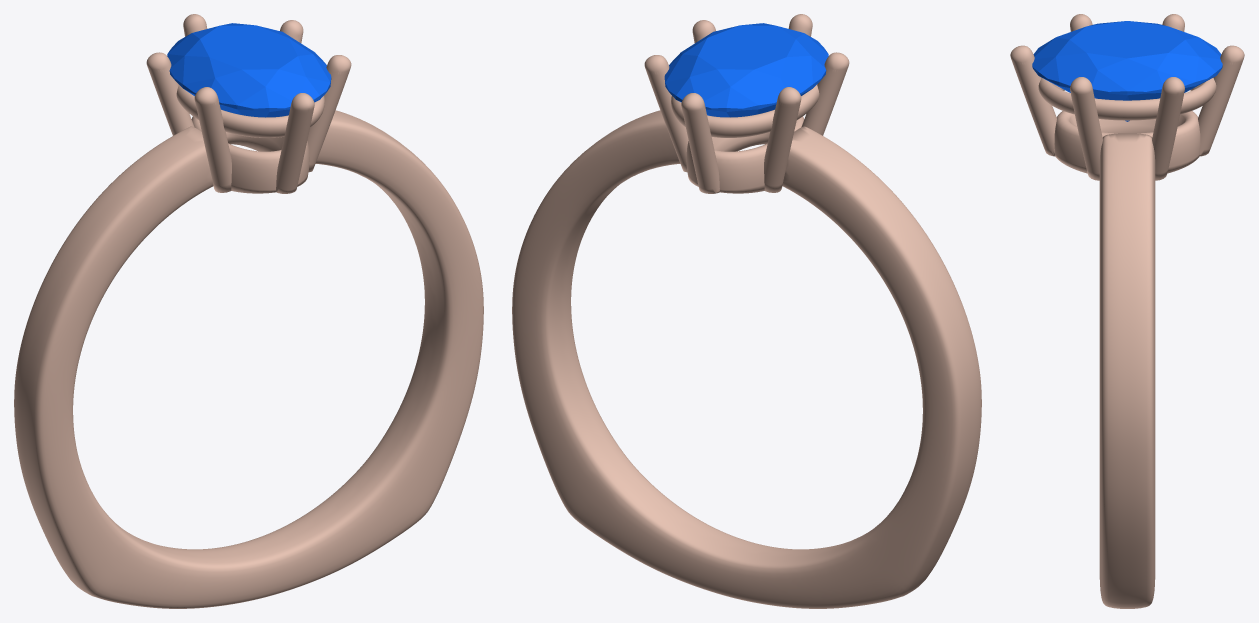
The model's file is bluesapphire-oval-rosegold-6prong-europeanshank-nosidestones.glb.
The picture shows the model from 3 angles, left to right: view 1: azimuth 30°, elevation 25°; view 2: azimuth 150°, elevation 25°; view 3: azimuth 270°, elevation 25°; orthographic projection. The views are drawn at different scales.
Parts seen in each view (by area): view 1: metal, stone; view 2: metal, stone; view 3: metal, stone.
Part boxes in pixels (x1=…): metal: x1=14, y1=14, x2=483, y2=608; stone: x1=167, y1=23, x2=331, y2=117; metal: x1=512, y1=14, x2=981, y2=608; stone: x1=664, y1=23, x2=828, y2=117; metal: x1=1010, y1=14, x2=1244, y2=608; stone: x1=1032, y1=21, x2=1222, y2=121.
Bounding box in the file's own units: 20.11 × 23.21 × 9.29.
